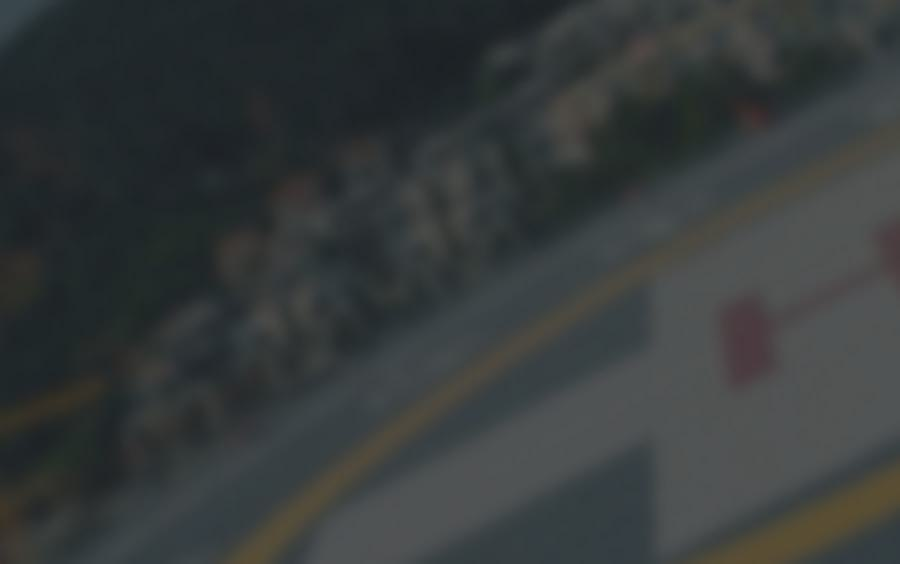Apron: (185, 102, 900, 564)
